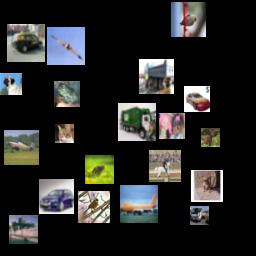airplane: (47, 27, 85, 65), (120, 185, 158, 223), (4, 130, 39, 165)
automobile: (7, 24, 45, 62), (39, 179, 74, 214), (184, 86, 210, 112)
bird: (171, 2, 206, 37), (78, 191, 110, 223)
cat: (85, 155, 114, 184), (55, 124, 74, 143)
deer: (201, 128, 220, 147)
dog: (191, 170, 223, 202), (159, 113, 185, 139), (0, 73, 22, 95)
frog: (54, 81, 80, 107)
ship: (9, 215, 38, 244)
truck: (118, 103, 156, 141), (139, 59, 174, 94), (190, 206, 209, 225)
